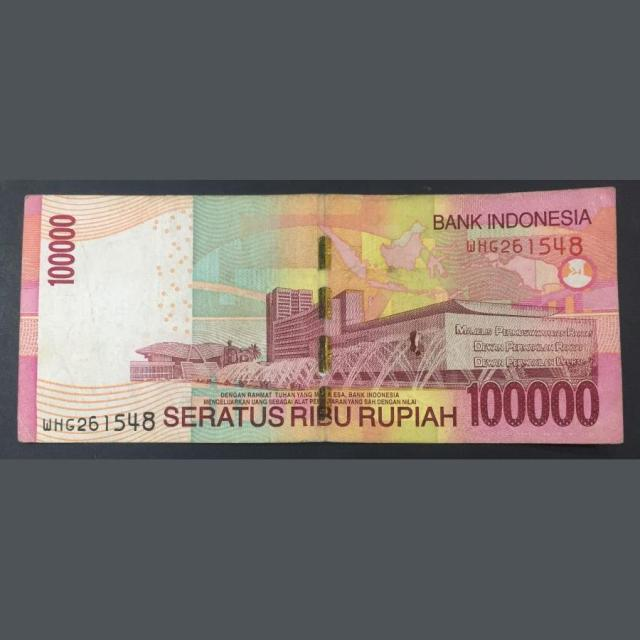seratus ribu rupiah: (17, 191, 623, 451)
